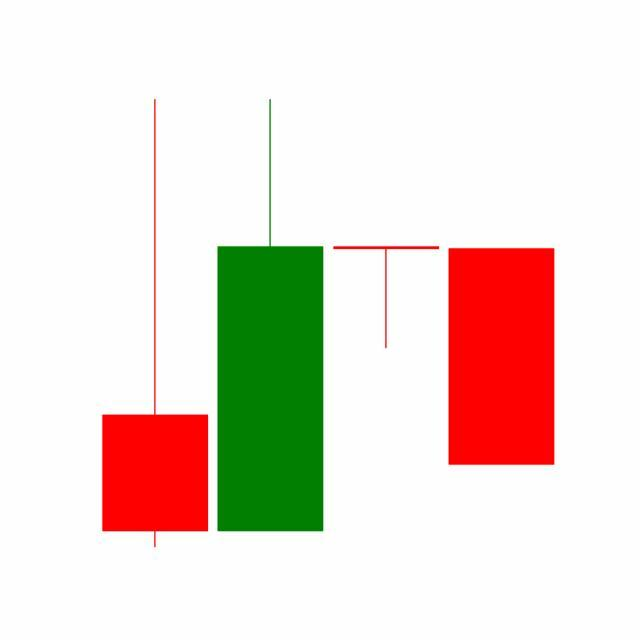Dragonfly Doji: (329, 245, 445, 350)
